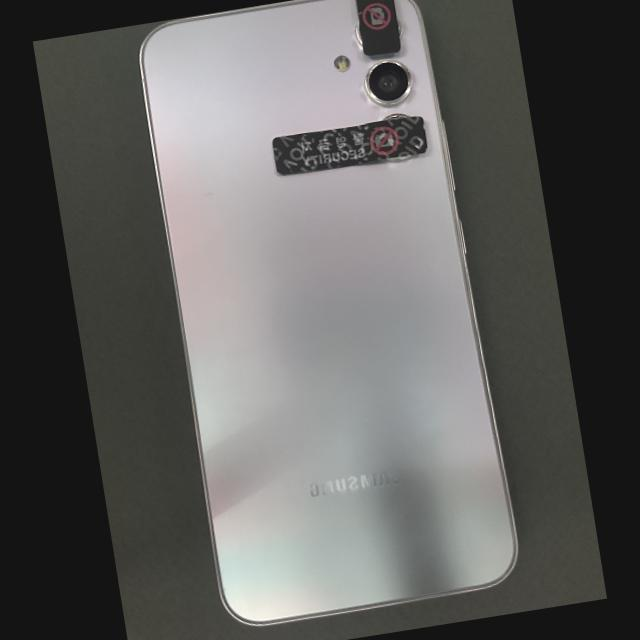lens: (363, 60, 411, 106), (353, 21, 363, 50), (380, 113, 410, 122)
phone: (137, 0, 521, 628)
sticker: (272, 115, 428, 176), (356, 0, 401, 57)
